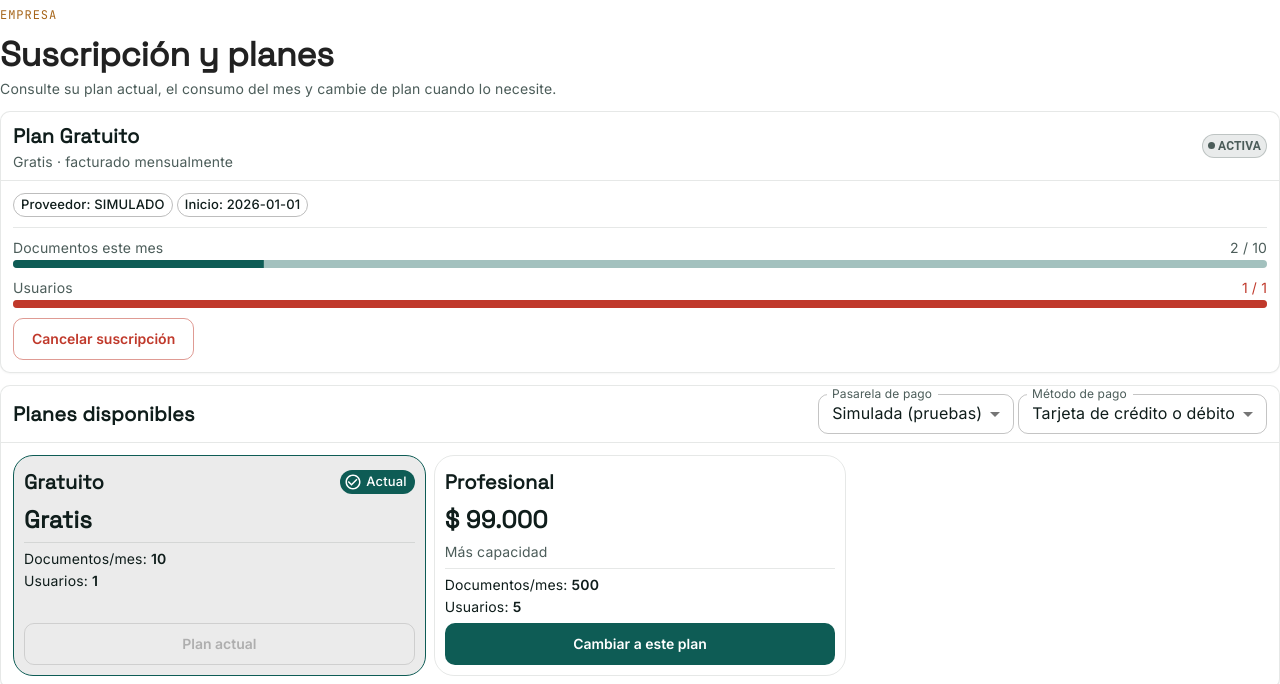
Test: SuscripcionPage › cambia de plan con checkout inmediato y confirma
Step 1. Click the button "Cambiar a este plan" → (640, 644), box [445,623,835,665]
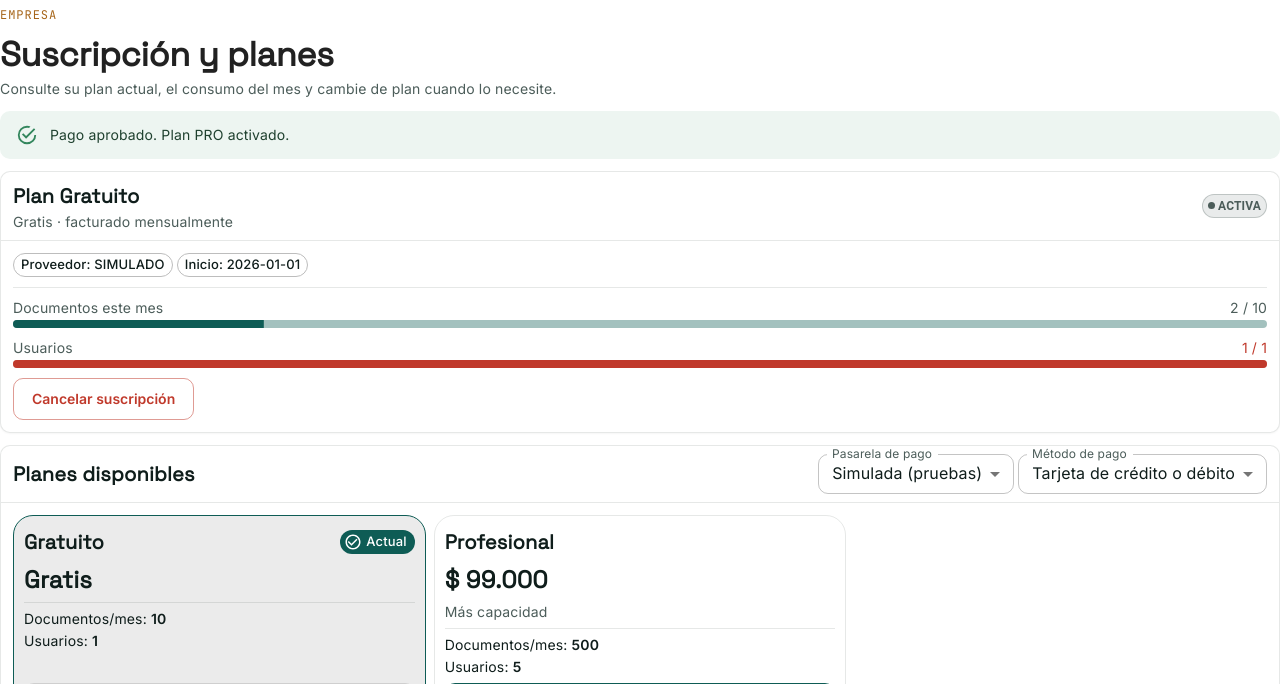
Result: the text "Pago aprobado. Plan PRO activado." is shown at [50,126,290,143]
